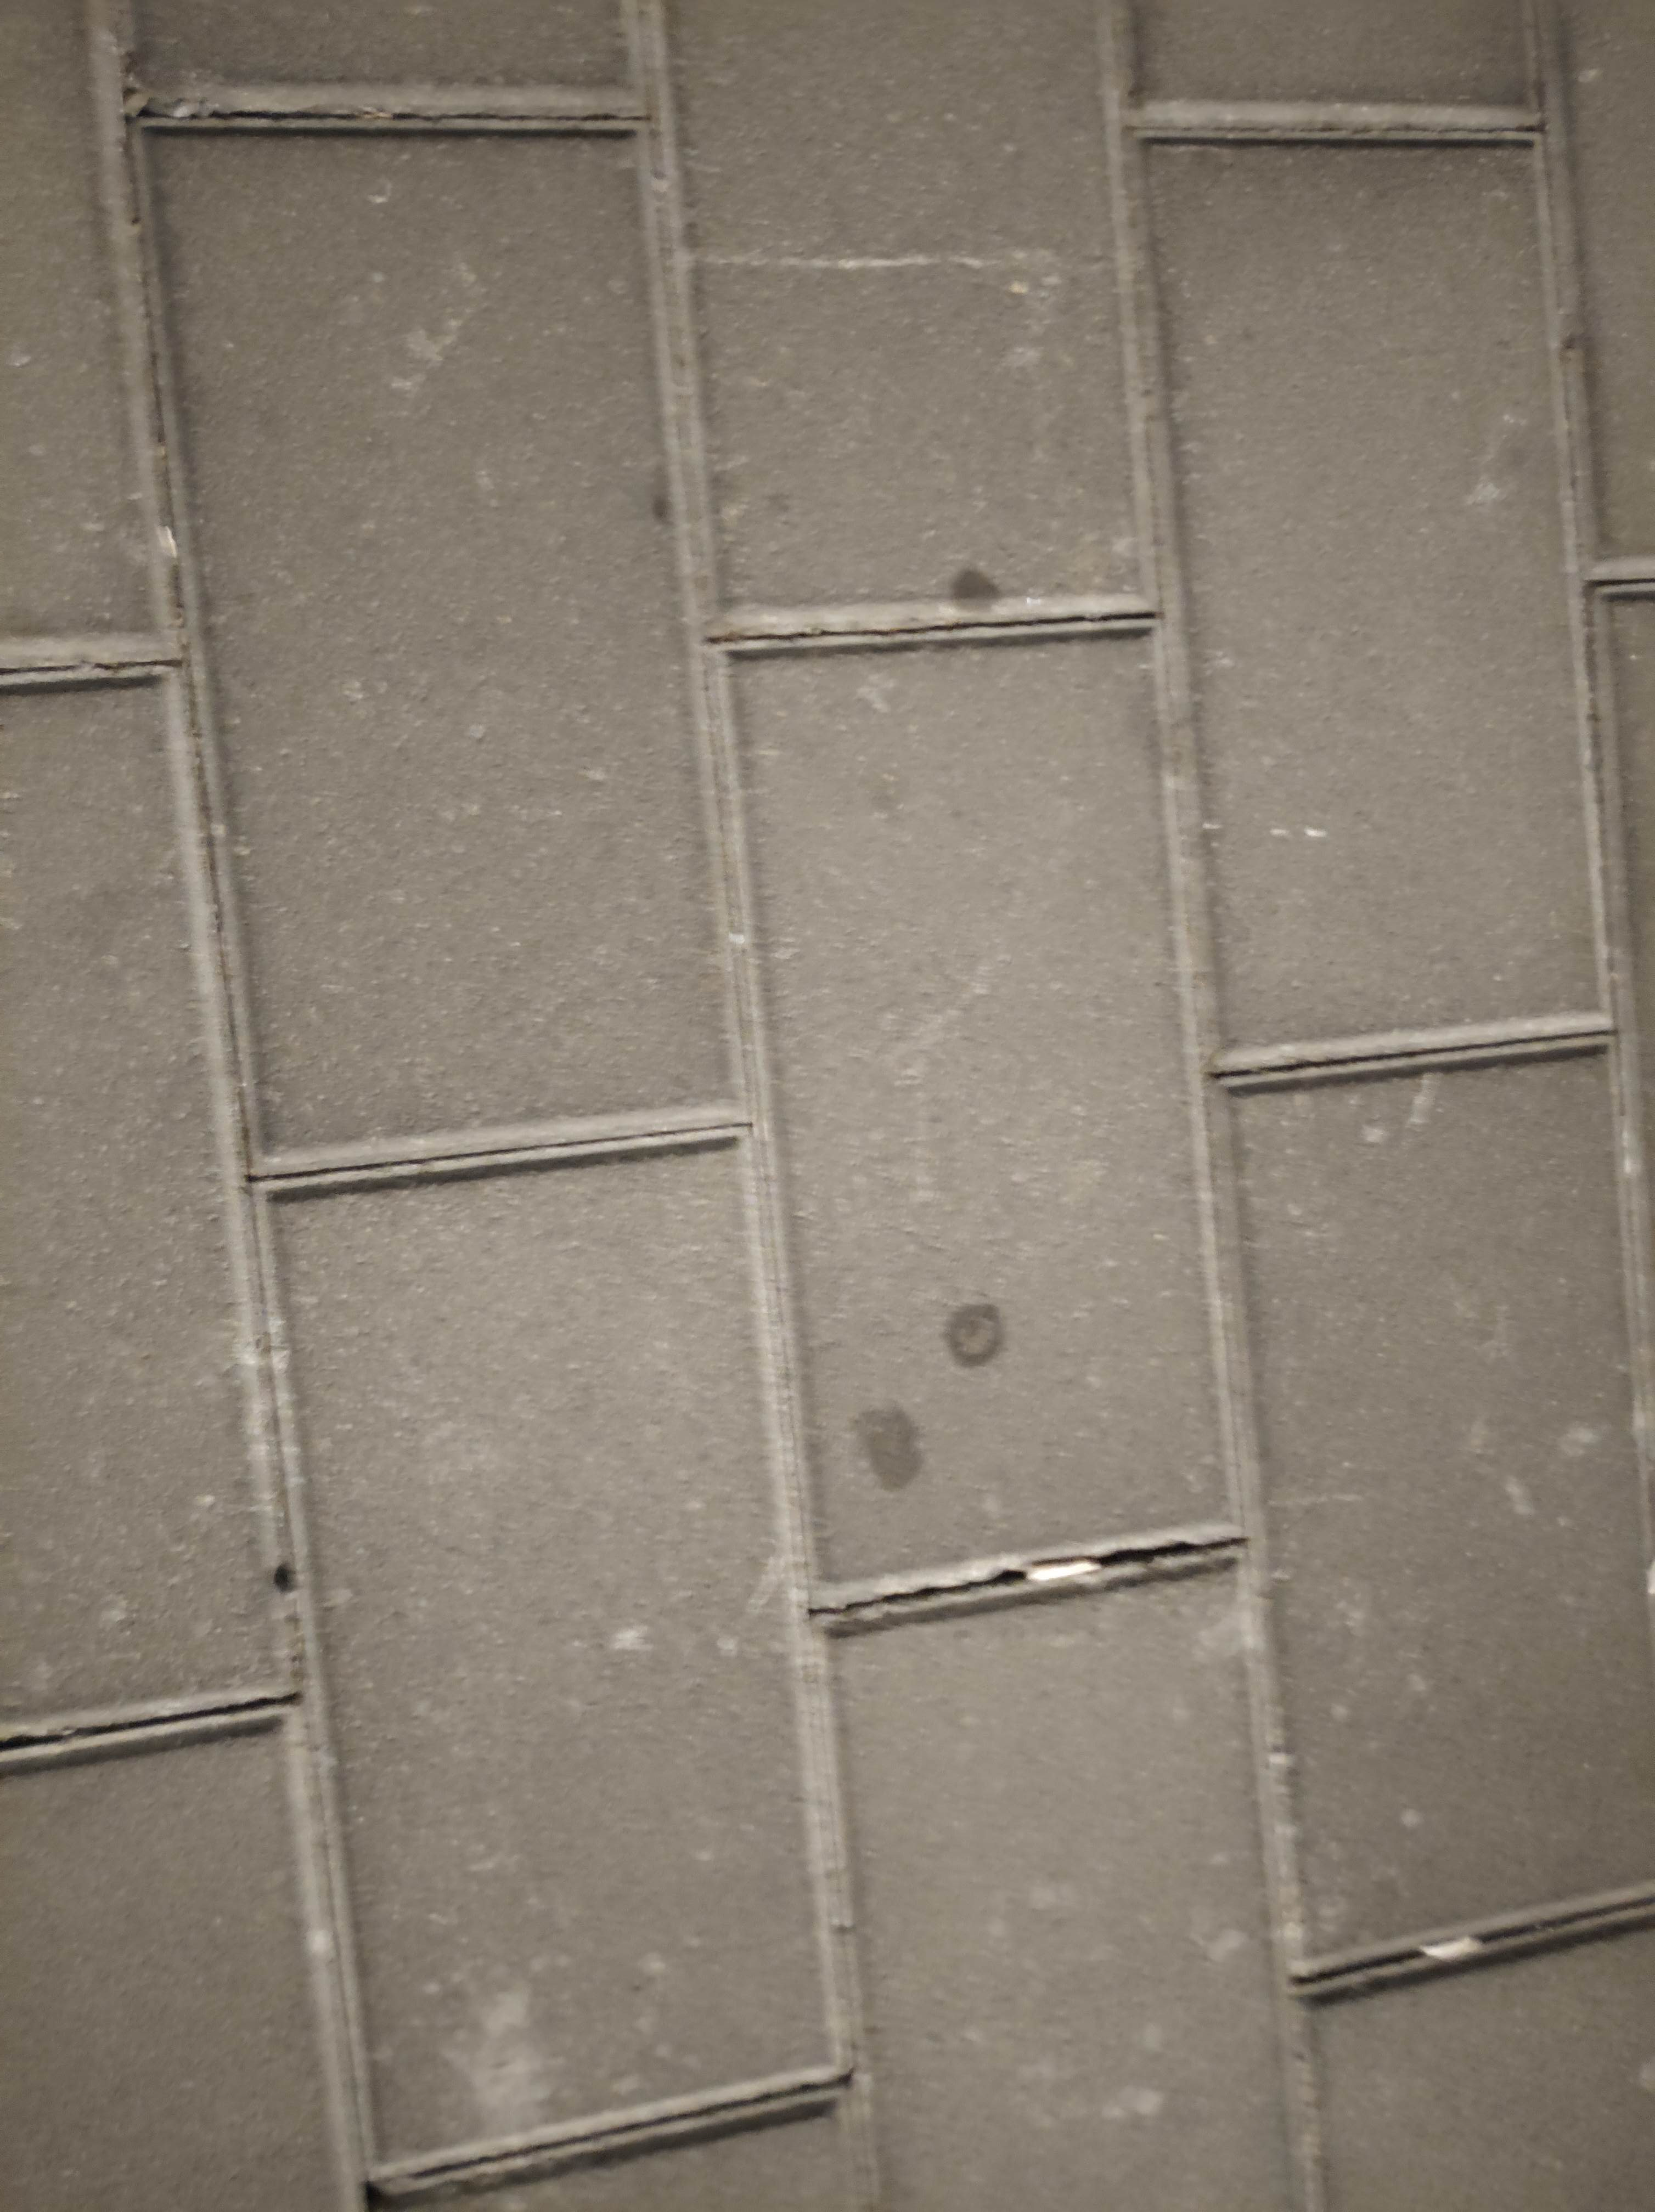grey spot: (859, 1409, 923, 1491), (946, 1303, 1005, 1366), (951, 563, 1000, 605)
